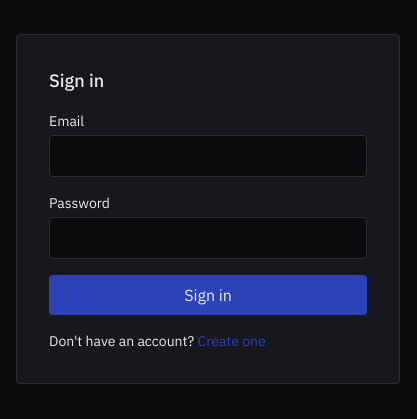
Test: LoginPage › shows the backend's error detail on a failed login
The width and height of the screenshot is (417, 419).
In the field labelled "Email": (208, 156) left=49, top=135, right=367, bottom=177, type "user@example.com"
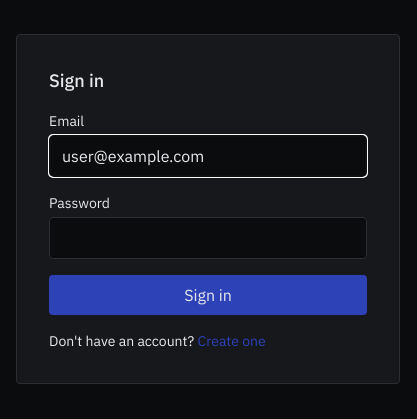
In the password field labelled "Password": (208, 238) left=49, top=217, right=367, bottom=259, type "password123"
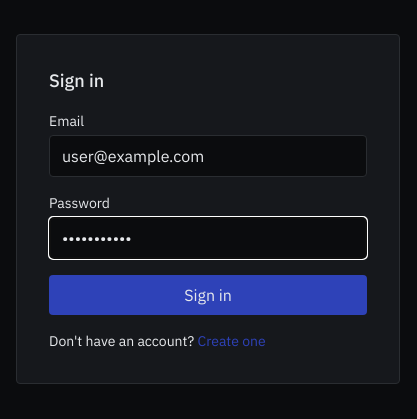
Click the button "Sign in": (208, 295) left=49, top=275, right=367, bottom=315
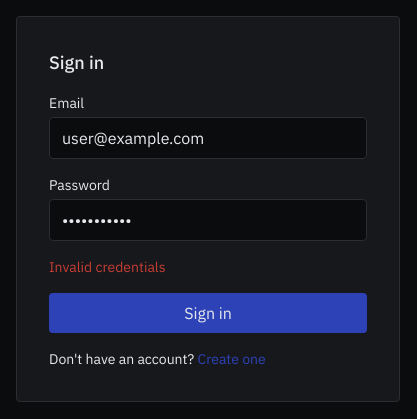
Result: the text "Invalid credentials" is shown at left=49, top=258, right=166, bottom=276
